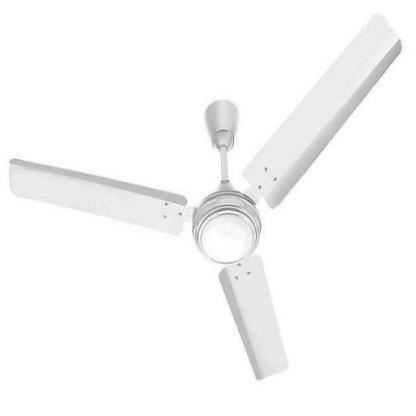ceiling-fan: (8, 13, 402, 380)
